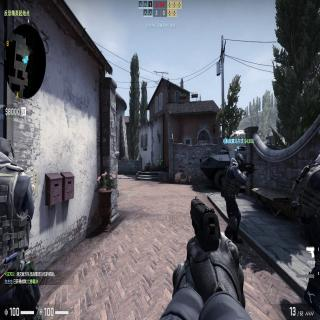CT-Body: (220, 151, 248, 243)
CT-Head: (235, 154, 245, 167)
